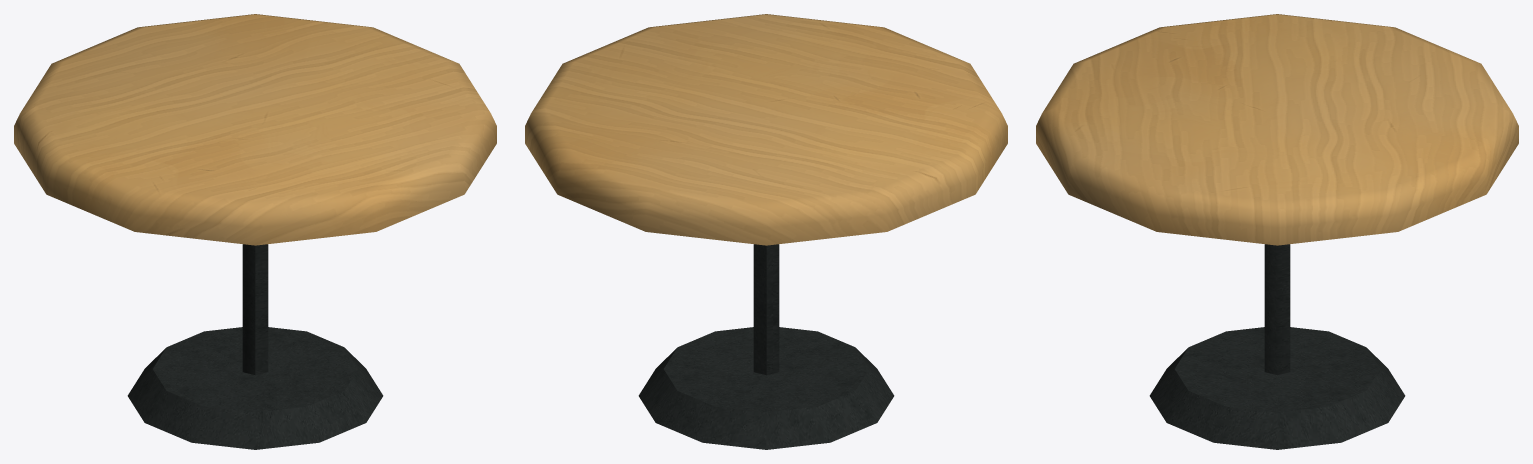
The model's file is table_4_3.glb.
3 renders of one model, left to right at view 1: azimuth 30°, elevation 25°; view 2: azimuth 150°, elevation 25°; view 3: azimuth 270°, elevation 25°, orthographic.
Parts seen in each view (by area): view 1: table_4_3; view 2: table_4_3; view 3: table_4_3.
Part boxes in pixels (x1,y1,x2,y2): table_4_3: [14, 14, 496, 449]; table_4_3: [525, 14, 1007, 449]; table_4_3: [1036, 14, 1518, 449].
Size of what is drawn, in the model's own units: 1.24 by 0.8129 by 1.24.
2 materials, 2 textured.
